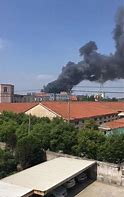smoke: (41, 26, 124, 92)
